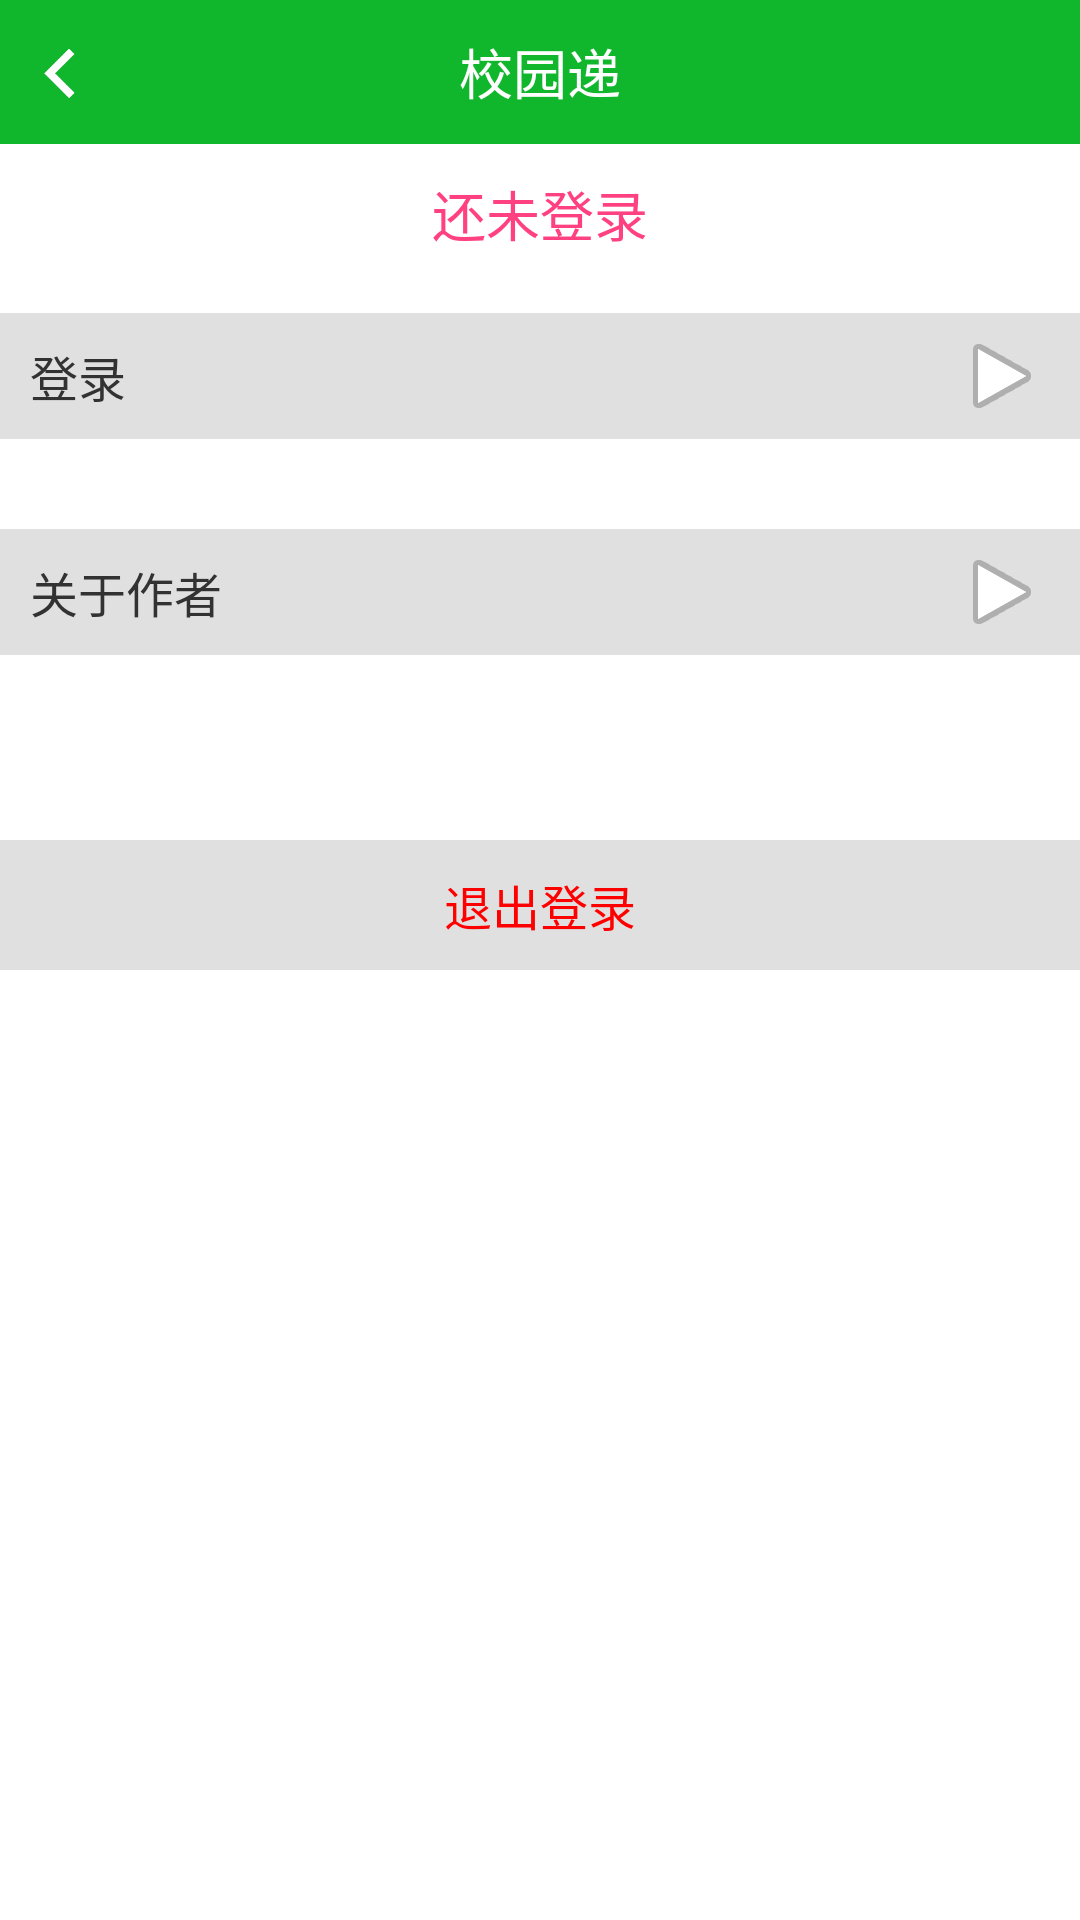

Locate icon controls on the screen. Image size 1080w x 1920h, boxes as (x1, y1, x2, y2).
back: (44, 49, 75, 98)
play: (973, 344, 1031, 408), (973, 560, 1031, 624)
